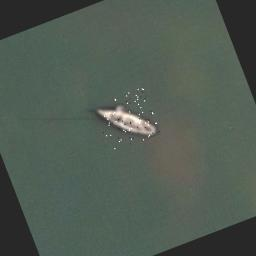boat: (94, 86, 162, 152)
